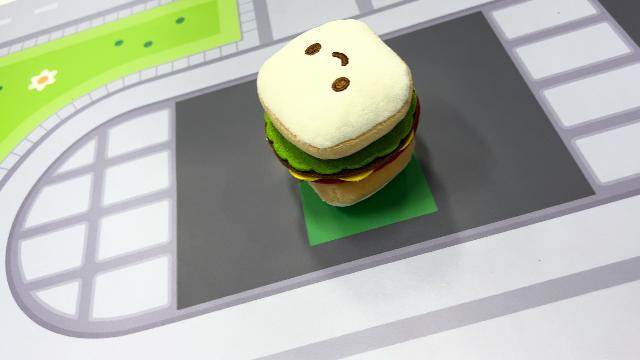sandwich: (253, 17, 423, 208)
